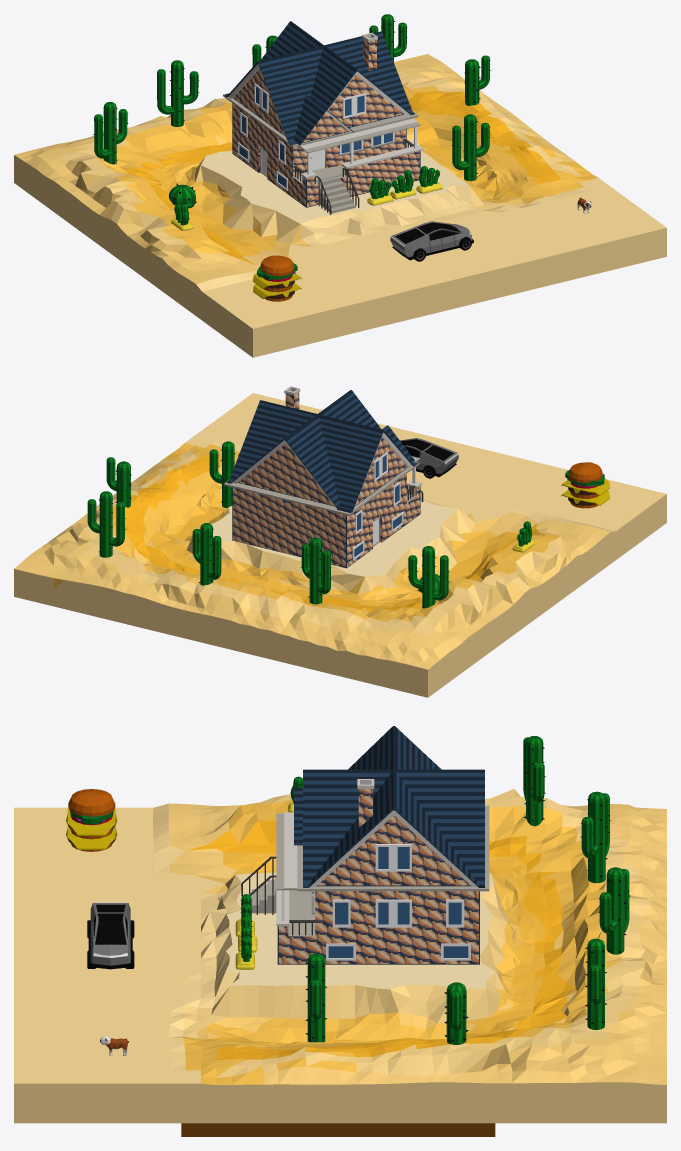
3 renders of one model, top to bottom at view 1: azimuth 30°, elevation 25°; view 2: azimuth 150°, elevation 25°; view 3: azimuth 270°, elevation 25°, orthographic. The views are drawn at different scales.
Visible parts, largest first — view 1: Cube.001, Cube.430, VEHICLES_CYBERTRUCK, OBJRANDOM_HAMBURGER, Cylinder.044, Cylinder.037, Cylinder.045, Cylinder.038, Cylinder.042, Cylinder.039, Cylinder.041; view 2: Cube.001, Cube.430, OBJRANDOM_HAMBURGER, Cylinder.042, Cylinder.045, Cylinder.044, Cylinder.043, VEHICLES_CYBERTRUCK, Cylinder.037, Cylinder.038; view 3: Cube.001, Cube.430, UNDERGROUND_ART_PIECE_VAN_GOGH, VEHICLES_CYBERTRUCK, OBJRANDOM_HAMBURGER, Cylinder.043, Cylinder.044, Cylinder.045, Cylinder.037, Cylinder.042, Cylinder.038, Cylinder.041.
Part boxes in pixels (left/top/right/bottom): Cube.001: left=14, top=54, right=666, bottom=357; Cube.430: left=223, top=21, right=423, bottom=214; VEHICLES_CYBERTRUCK: left=390, top=221, right=473, bottom=261; OBJRANDOM_HAMBURGER: left=253, top=255, right=301, bottom=301; Cylinder.044: left=157, top=60, right=199, bottom=126; Cylinder.037: left=451, top=114, right=490, bottom=181; Cylinder.045: left=93, top=102, right=128, bottom=164; Cylinder.038: left=464, top=55, right=490, bottom=105; Cylinder.042: left=369, top=14, right=407, bottom=62; Cylinder.039: left=367, top=178, right=393, bottom=205; Cylinder.041: left=416, top=166, right=442, bottom=193; Cube.001: left=14, top=393, right=666, bottom=697; Cube.430: left=224, top=386, right=423, bottom=568; OBJRANDOM_HAMBURGER: left=561, top=462, right=609, bottom=508; Cylinder.042: left=87, top=491, right=125, bottom=557; Cylinder.045: left=408, top=546, right=449, bottom=608; Cylinder.044: left=301, top=537, right=331, bottom=604; Cylinder.043: left=192, top=523, right=221, bottom=585; VEHICLES_CYBERTRUCK: left=400, top=438, right=458, bottom=478; Cylinder.037: left=209, top=441, right=239, bottom=507; Cylinder.038: left=106, top=457, right=131, bottom=507; Cube.001: left=14, top=789, right=666, bottom=1123; Cube.430: left=241, top=726, right=489, bottom=964; UNDERGROUND_ART_PIECE_VAN_GOGH: left=181, top=1123, right=495, bottom=1136; VEHICLES_CYBERTRUCK: left=87, top=902, right=134, bottom=969; OBJRANDOM_HAMBURGER: left=66, top=789, right=117, bottom=851; Cylinder.043: left=598, top=867, right=630, bottom=954; Cylinder.044: left=580, top=791, right=610, bottom=883; Cylinder.045: left=523, top=736, right=545, bottom=826; Cylinder.037: left=305, top=953, right=327, bottom=1042; Cylinder.042: left=585, top=938, right=606, bottom=1029; Cylinder.038: left=444, top=982, right=468, bottom=1044; Cylinder.041: left=235, top=927, right=254, bottom=969.
Size of the model in its own units: 4002 by 1752 by 4001.
36 materials, 4 textured.
